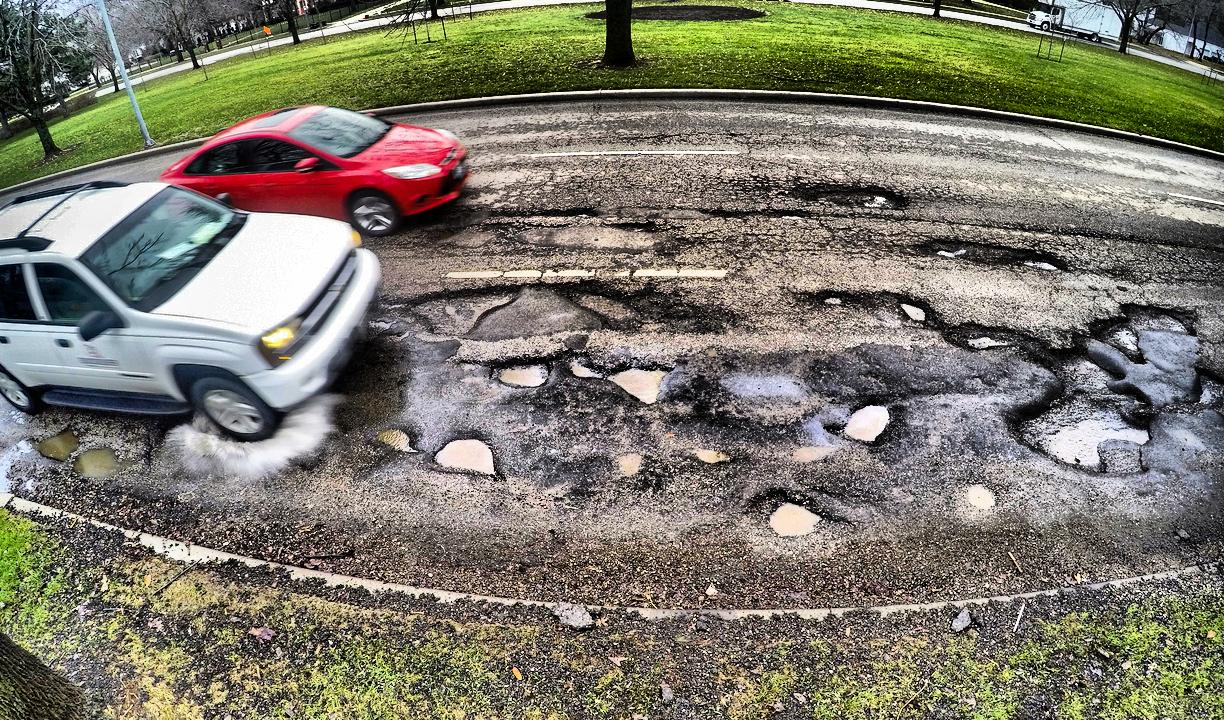pothole: (1012, 298, 1209, 479), (405, 279, 659, 340), (446, 214, 662, 255), (913, 231, 1064, 278), (802, 177, 905, 219), (429, 430, 500, 480), (759, 495, 825, 543), (608, 363, 671, 409), (837, 402, 897, 446), (949, 317, 1016, 356), (491, 354, 552, 390), (890, 293, 932, 328), (369, 424, 415, 452), (963, 478, 997, 514), (611, 450, 647, 478), (808, 290, 854, 311), (563, 357, 598, 382), (699, 441, 724, 470)
